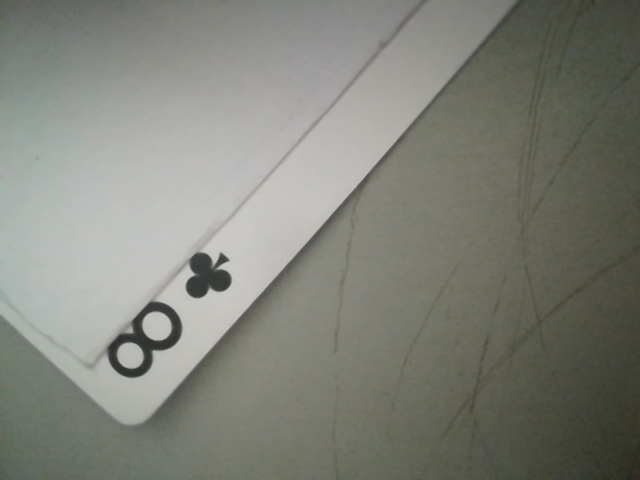mh 8: (89, 243, 242, 397)
